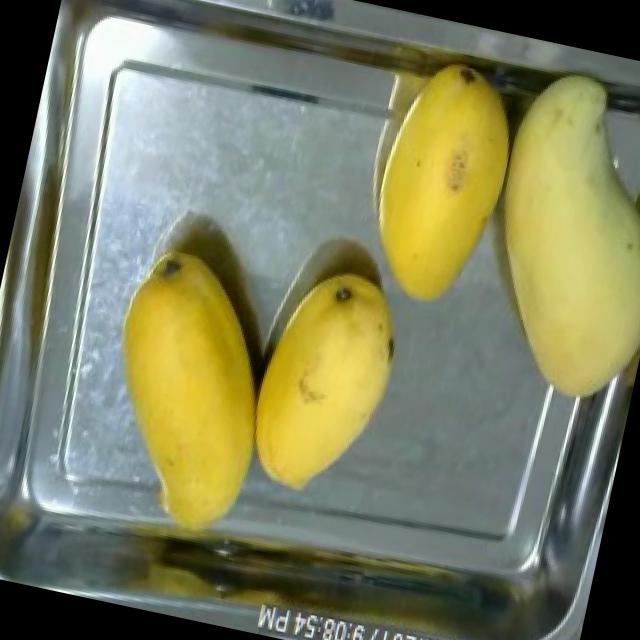fruit: (445, 49, 640, 412), (70, 224, 282, 545), (344, 42, 538, 322), (234, 252, 420, 514)
